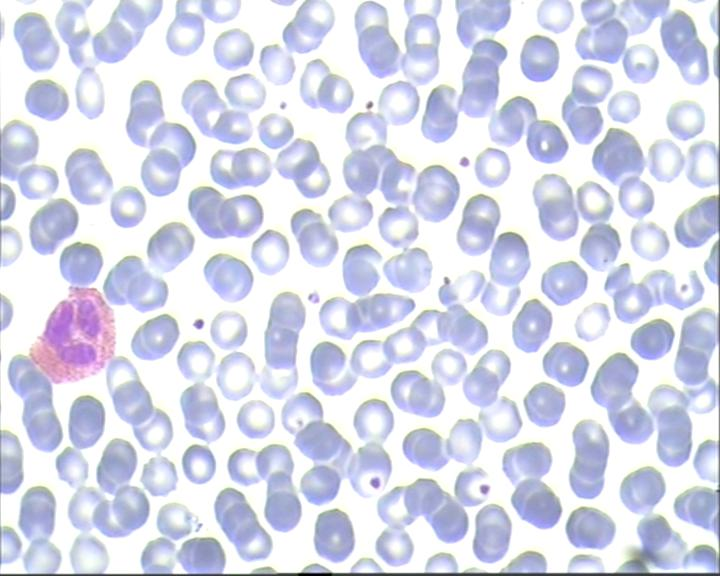eosi: (25, 279, 118, 383)
